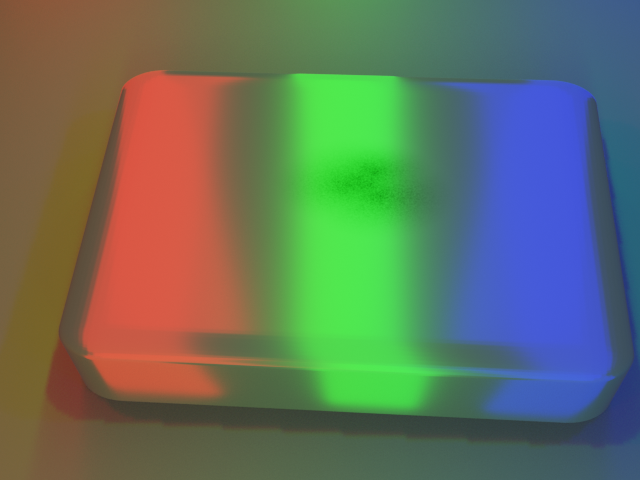stain: (264, 113, 494, 240)
